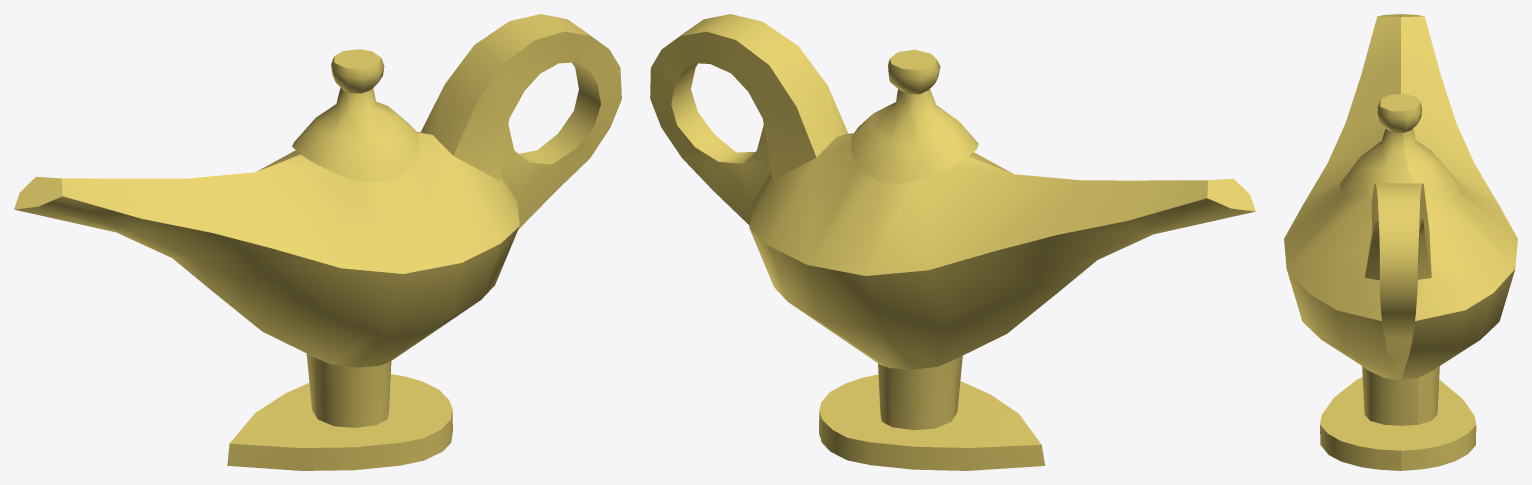
The model's file is SM_Magic_Lamp.fbx.
3 renders of one model, left to right at view 1: azimuth 30°, elevation 25°; view 2: azimuth 150°, elevation 25°; view 3: azimuth 270°, elevation 25°, orthographic. The views are drawn at different scales.
Visible parts, largest first — view 1: SM_Magic_Lamp; view 2: SM_Magic_Lamp; view 3: SM_Magic_Lamp.
Boxes of the visible parts, bbox=[...] form: SM_Magic_Lamp: bbox=[14, 14, 621, 470]; SM_Magic_Lamp: bbox=[650, 14, 1255, 470]; SM_Magic_Lamp: bbox=[1284, 14, 1517, 470].
Size of the model in its own units: 0.4248 by 0.2547 by 0.1624.
